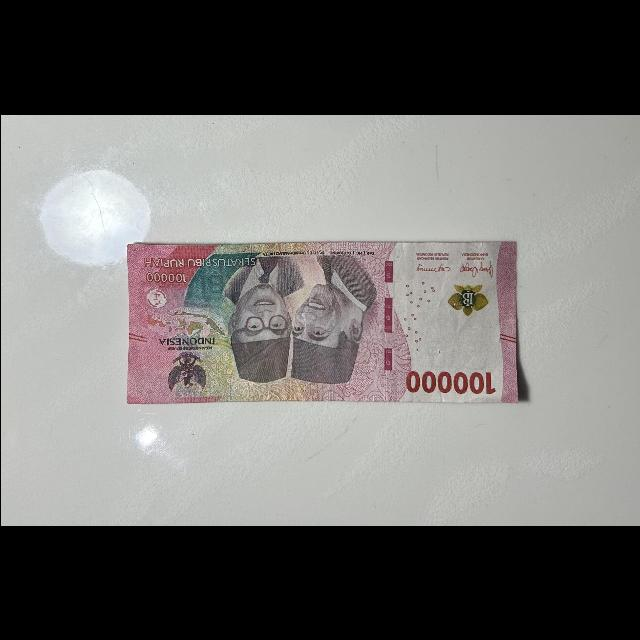Palsu-100k: (125, 239, 520, 404)
Tinta-Palsu-100k: (447, 281, 489, 317)
